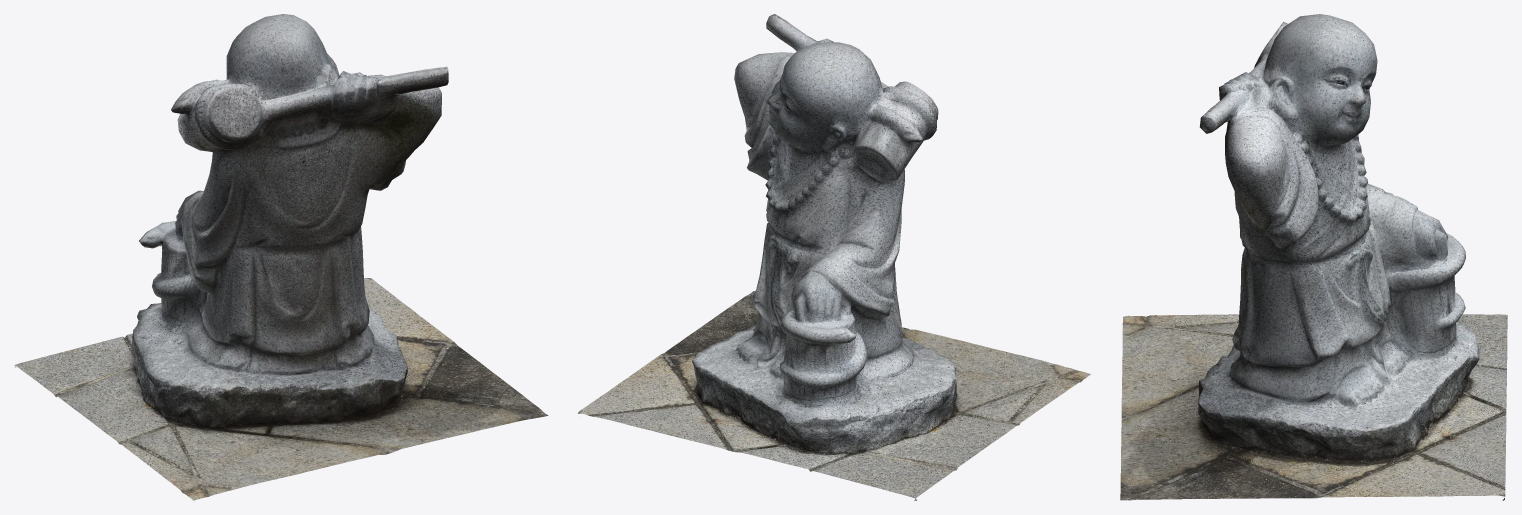
Rendered from arhat-stone.glb.
3 renders of one model, left to right at view 1: azimuth 30°, elevation 25°; view 2: azimuth 150°, elevation 25°; view 3: azimuth 270°, elevation 25°, orthographic. The views are drawn at different scales.
Visible parts, largest first — view 1: arhat-stone-low; view 2: arhat-stone-low; view 3: arhat-stone-low.
Part boxes in pixels (x1,y1,x2,y2): arhat-stone-low: [14, 14, 548, 500]; arhat-stone-low: [578, 14, 1090, 500]; arhat-stone-low: [1120, 14, 1507, 500].
Size of the model in its own units: 1.01 by 0.9996 by 0.8997.
1 material, 1 textured.
